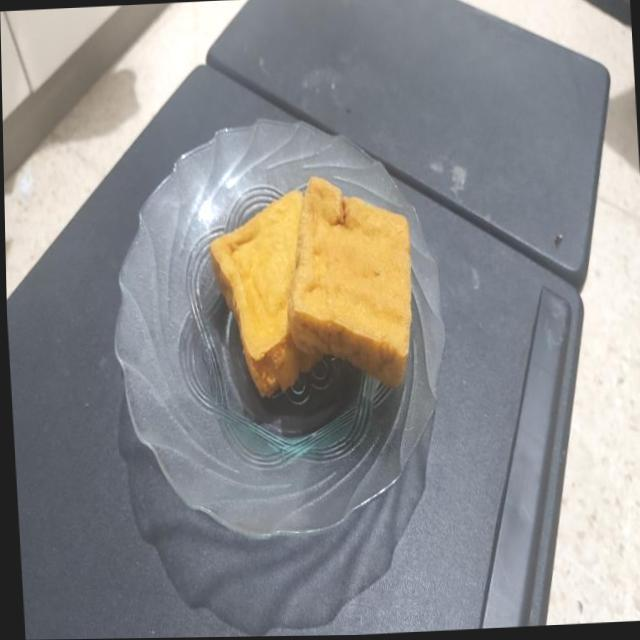tahu_goreng: (287, 176, 411, 387), (210, 190, 322, 397)
